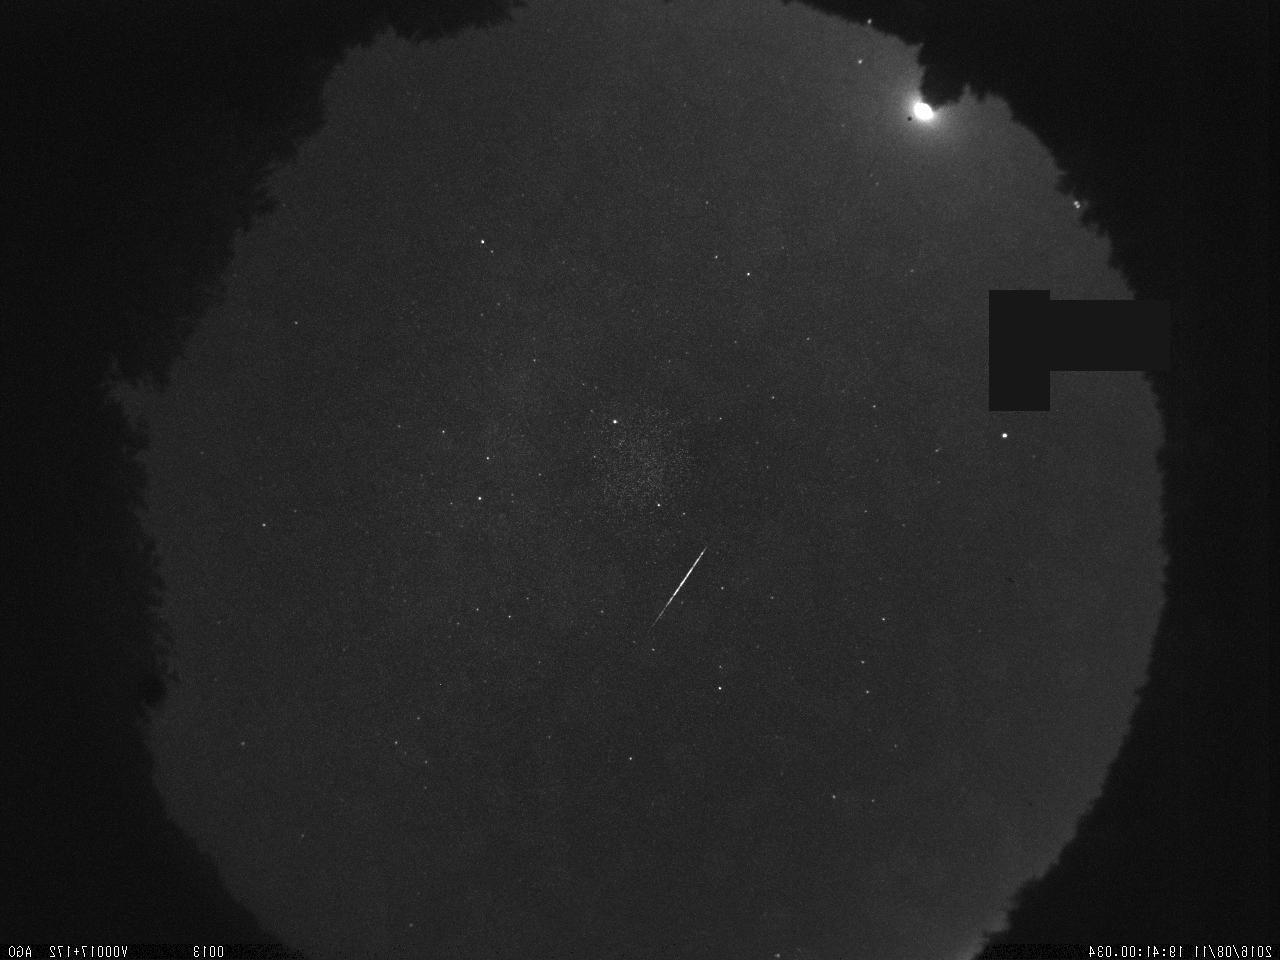meteor: (610, 528, 760, 650)
